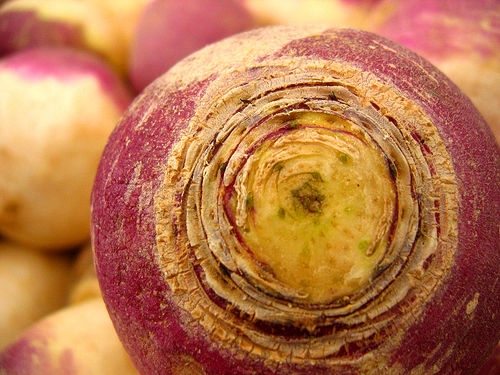turnip: (88, 23, 499, 374)
